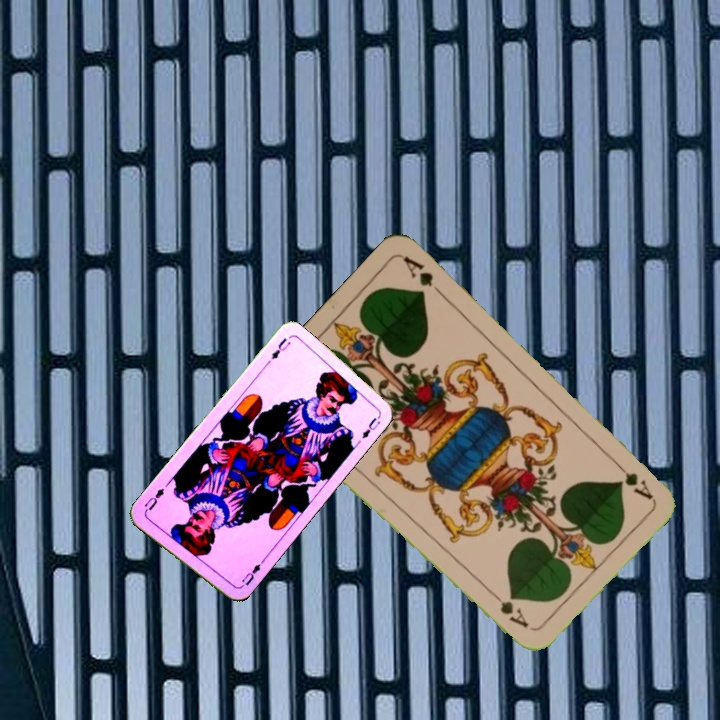EU: (236, 557, 266, 591), (267, 334, 293, 362)
GA: (608, 455, 655, 502)
